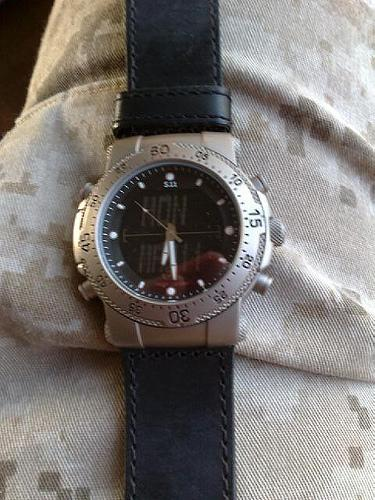watch: (90, 136, 263, 341)
